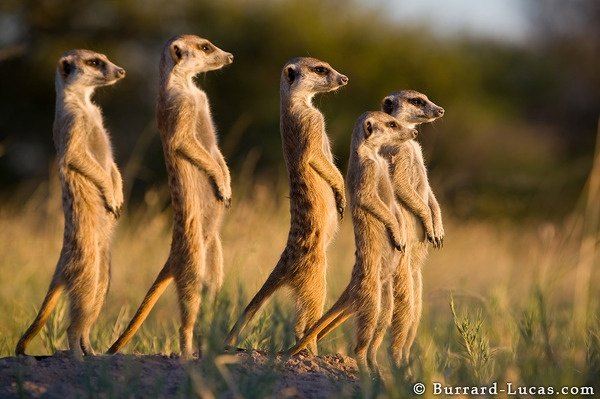meerkat: (151, 17, 245, 368), (255, 35, 349, 380), (43, 32, 130, 360)
